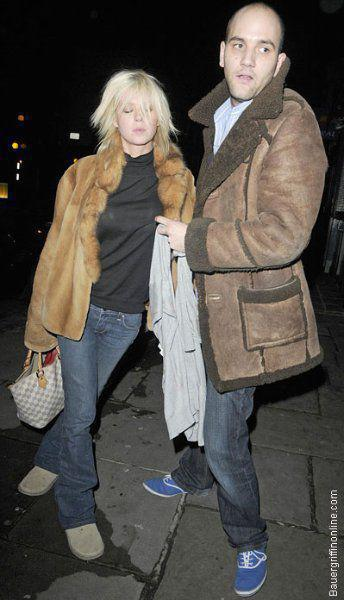Drunk: (229, 12, 277, 98), (115, 83, 158, 146)
